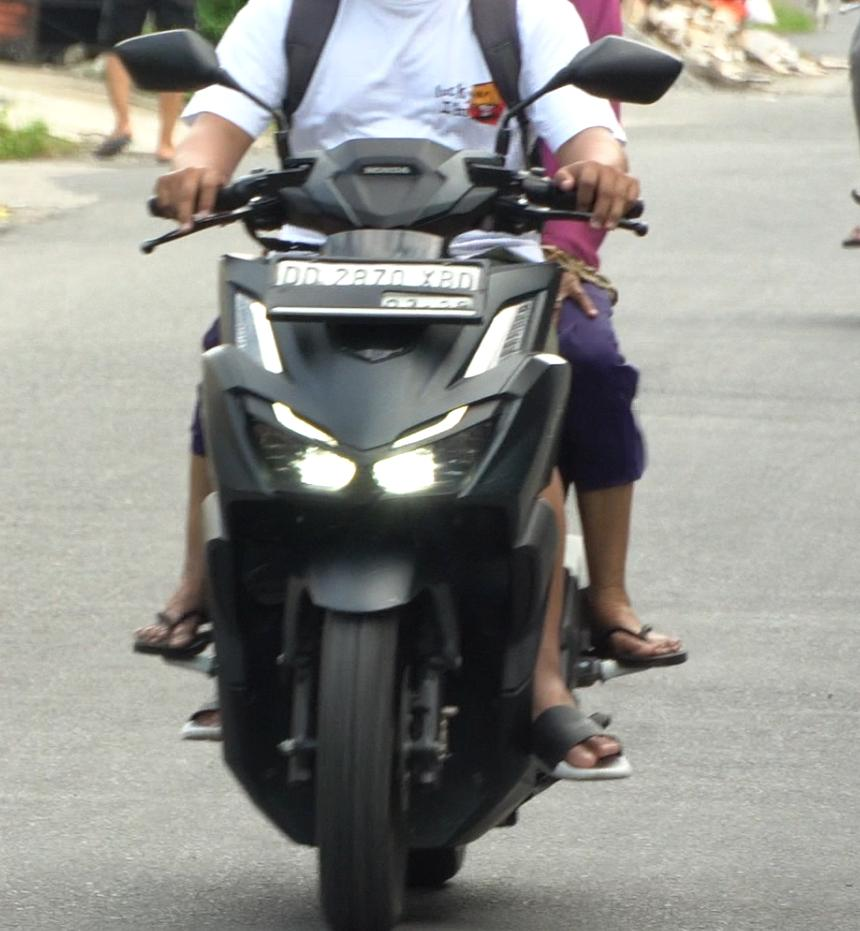number-plate: (262, 247, 493, 323)
